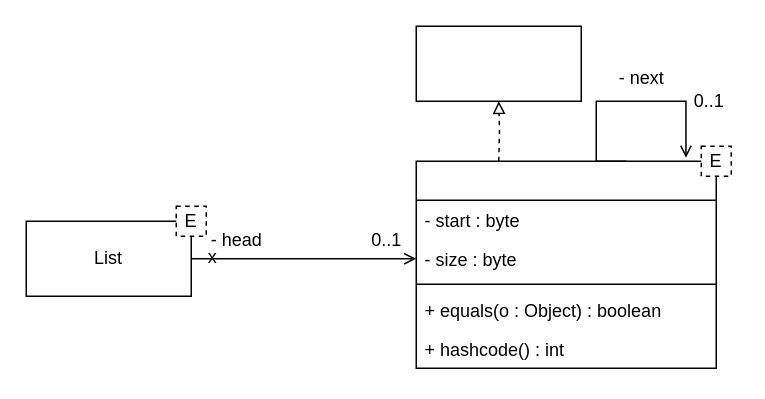
Image size: 765x399. Some labels were removed from this diagram. Each missing label, with the box of its shape:
Allocation: (415, 160, 716, 368)
«interface» Comparable: (415, 25, 581, 101)
